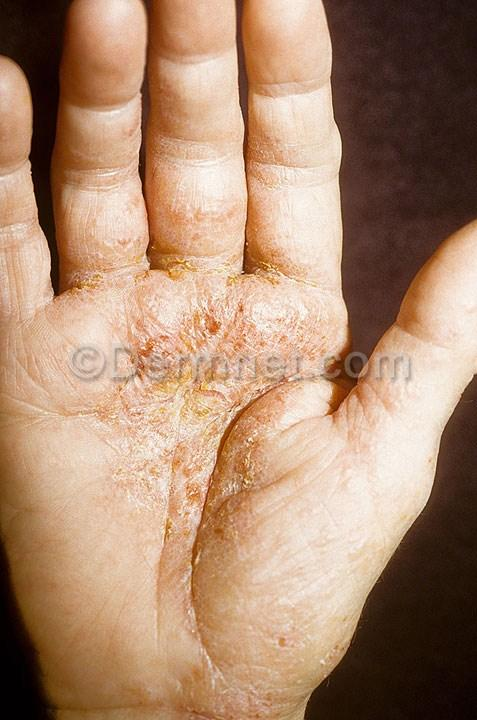Eczema: (77, 314, 290, 529)
